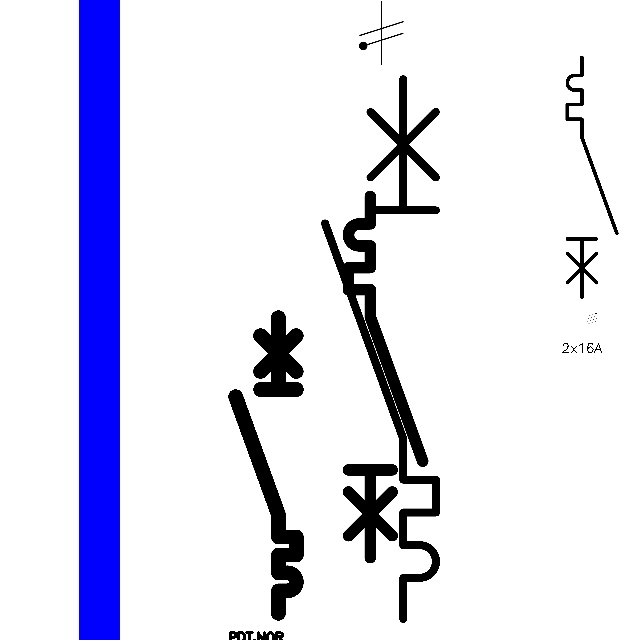interruptor_termomagnetico: (311, 65, 450, 633), (339, 187, 432, 566), (228, 310, 304, 621), (561, 51, 622, 303)
